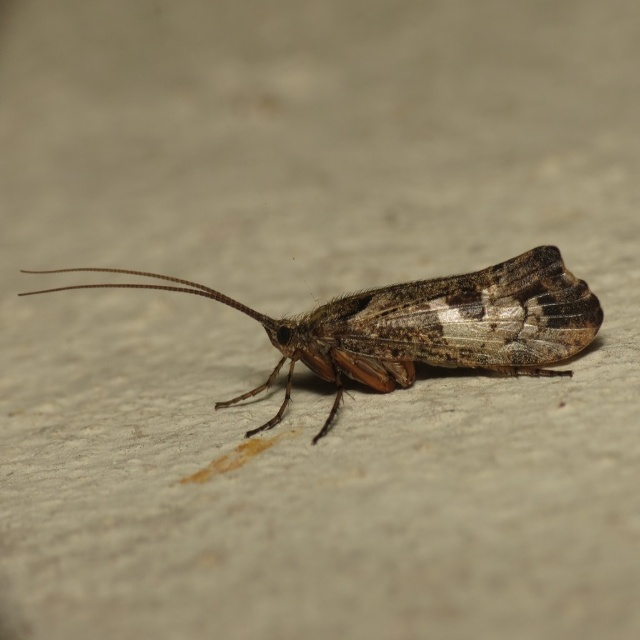Moths and butterflies: (17, 244, 608, 446)
